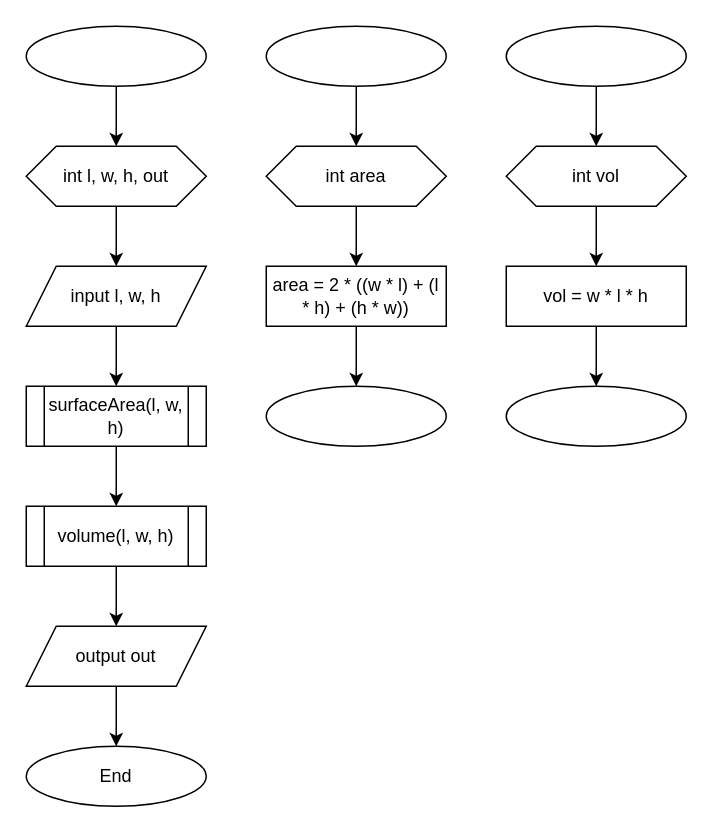
The diagram is 713 pixels wide and 833 high, and some of its shapes have lost their labels. The centre of each missing label's shape, as x and y in pixels:
return area: the point at 355,415
return vol: the point at 595,415
Start: the point at 115,55
surfaceArea(int l, w, h): the point at 355,55
volume(int l, w, h): the point at 595,55
